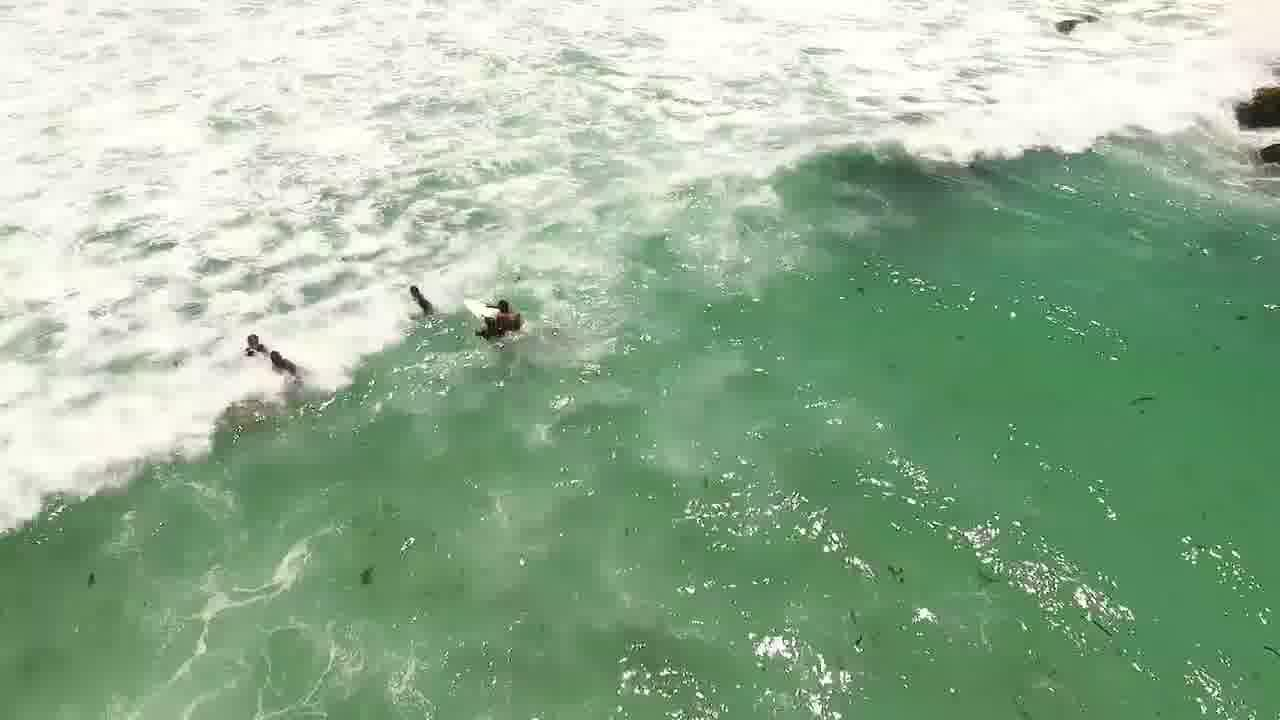swimmer: (494, 287, 531, 338), (396, 274, 437, 320), (265, 339, 296, 379), (474, 313, 498, 334), (237, 321, 259, 342)
